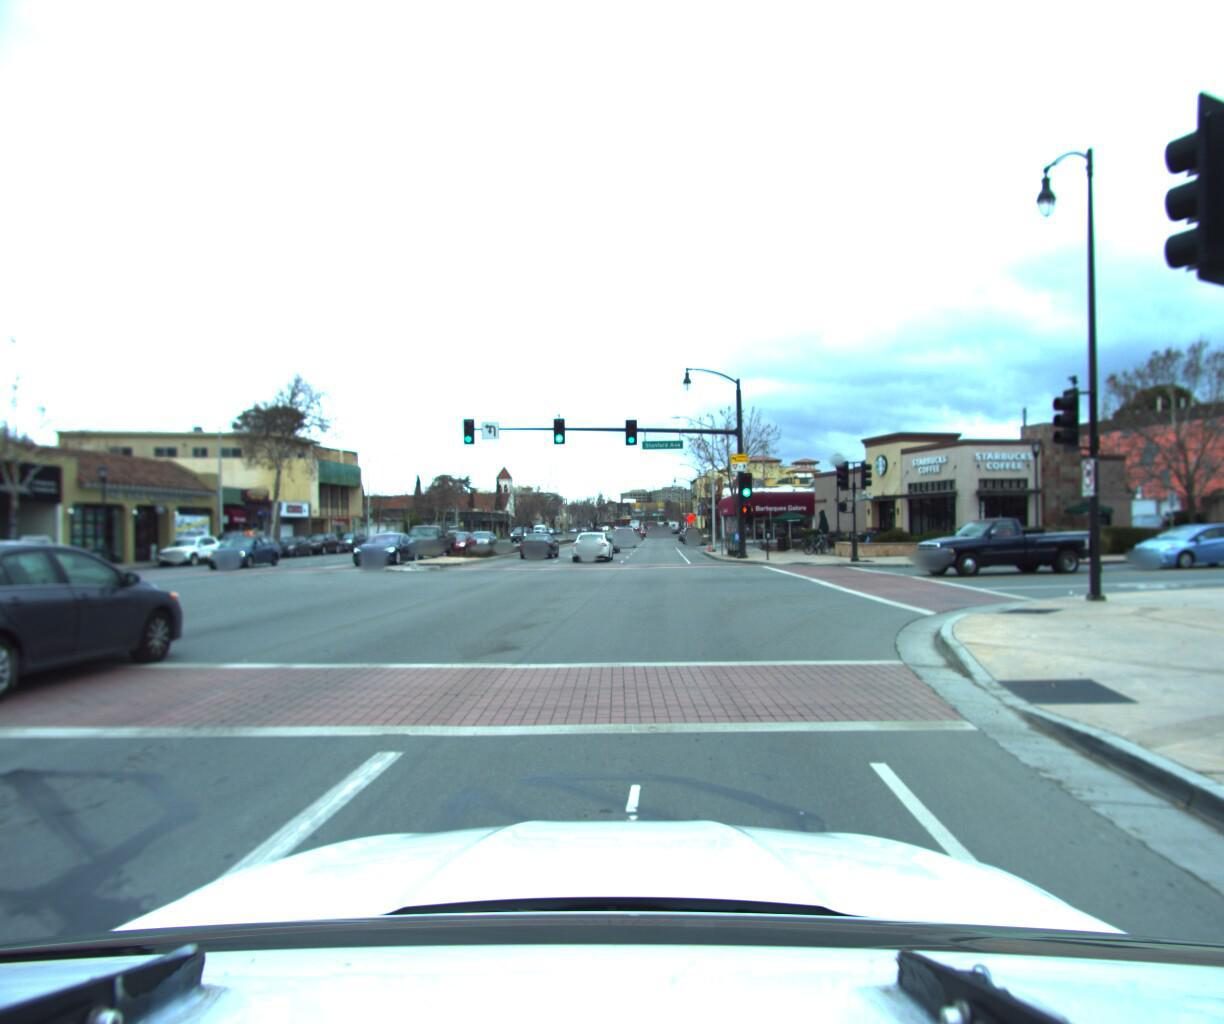bicycle: (798, 528, 834, 549), (795, 528, 830, 549)
car: (0, 527, 206, 723), (904, 509, 1096, 571), (1112, 513, 1224, 564), (203, 533, 288, 569), (198, 525, 280, 562), (152, 533, 228, 568), (352, 529, 423, 566), (397, 522, 460, 561), (570, 525, 612, 558), (516, 526, 559, 553), (435, 528, 478, 555), (270, 534, 316, 558), (300, 531, 343, 555), (331, 530, 371, 552), (463, 527, 499, 550), (601, 523, 630, 547), (614, 523, 637, 541), (683, 526, 702, 542)
